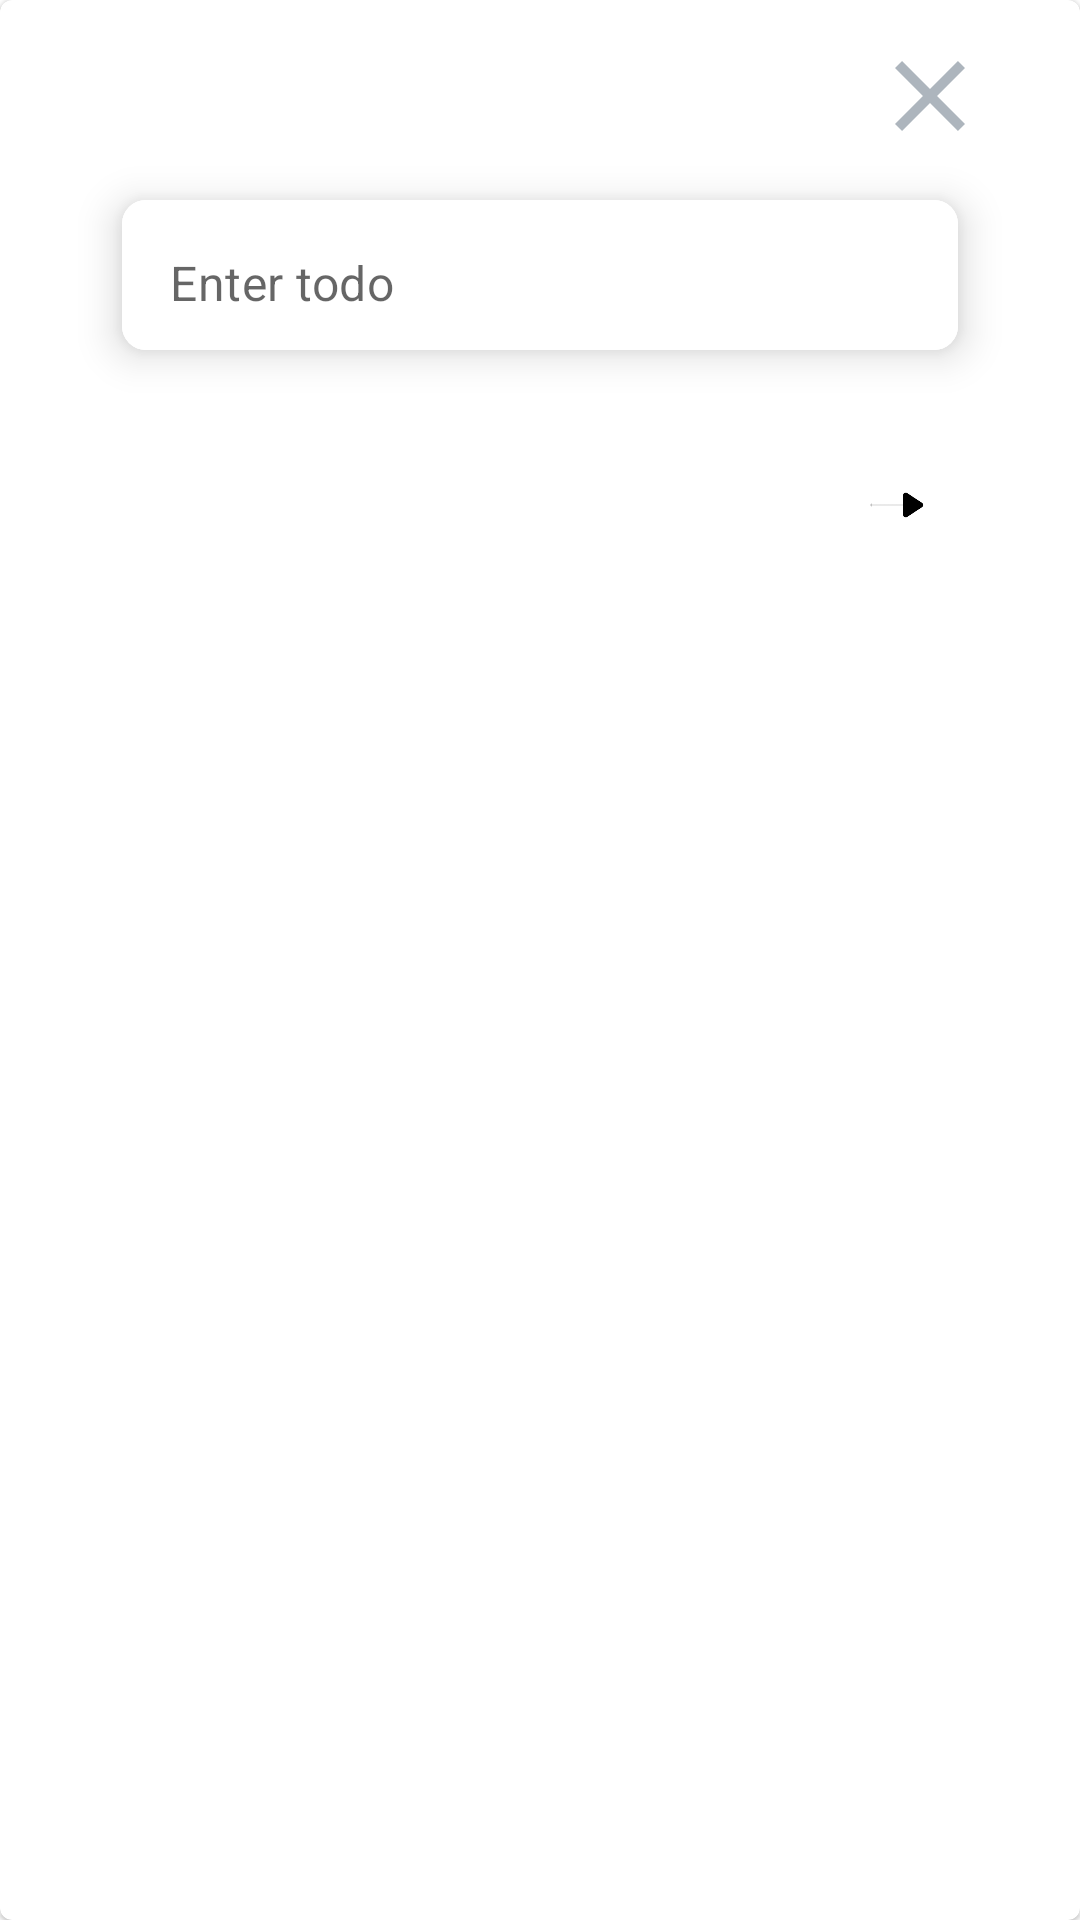

Icon click points for this 1080*1920 phone screenshot, format point (x, y):
arrow: point (896, 505)
close: point (930, 96)
